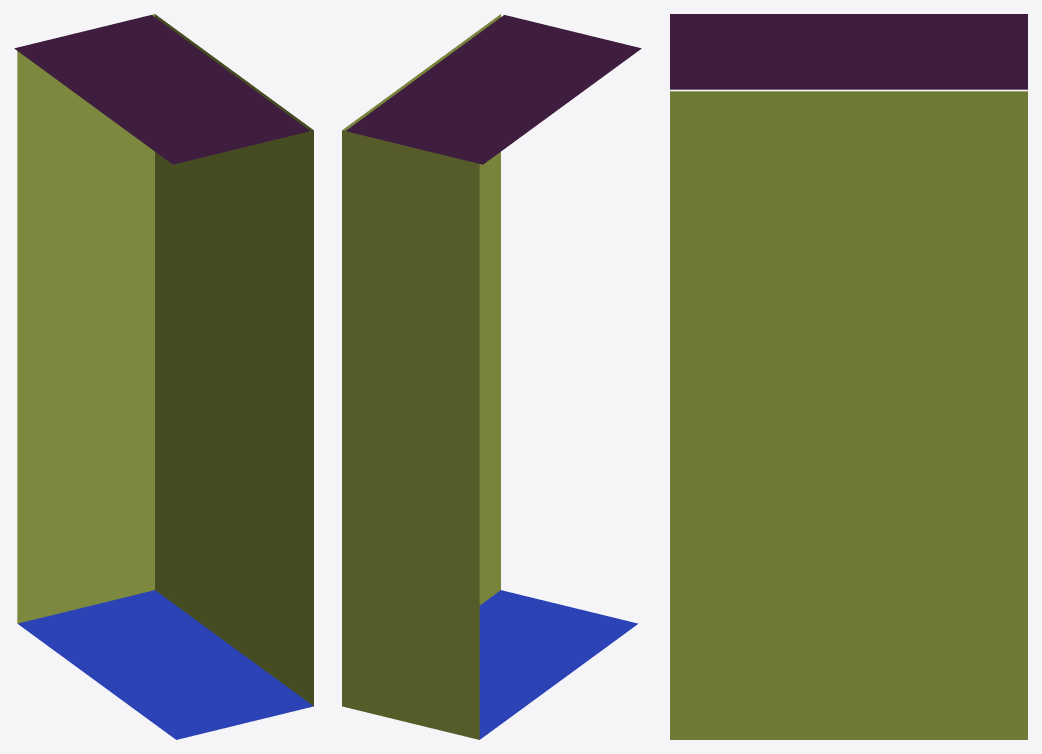
File: ModuleSc_A_corner005.FBX
The picture shows the model from 3 angles, left to right: view 1: azimuth 30°, elevation 25°; view 2: azimuth 150°, elevation 25°; view 3: azimuth 270°, elevation 25°; orthographic projection. The views are drawn at different scales.
Parts seen in each view (by area): view 1: ModuleSc_A_wall_03, ModuleSC_A_floor_04, ModuleSc_A_roof_04; view 2: ModuleSc_A_wall_03, ModuleSc_A_roof_04, ModuleSC_A_floor_04; view 3: ModuleSc_A_wall_03, ModuleSc_A_roof_04.
Part boxes in pixels (box(x1,y1,x2,y2)): ModuleSc_A_wall_03: box(17, 14, 313, 705); ModuleSC_A_floor_04: box(18, 590, 313, 739); ModuleSc_A_roof_04: box(14, 15, 310, 164); ModuleSc_A_wall_03: box(342, 14, 500, 739); ModuleSc_A_roof_04: box(345, 15, 641, 164); ModuleSC_A_floor_04: box(479, 590, 637, 739); ModuleSc_A_wall_03: box(670, 91, 1027, 739); ModuleSc_A_roof_04: box(670, 14, 1027, 89).
Size of the model in its own units: 20.17 by 78.74 by 39.37.
